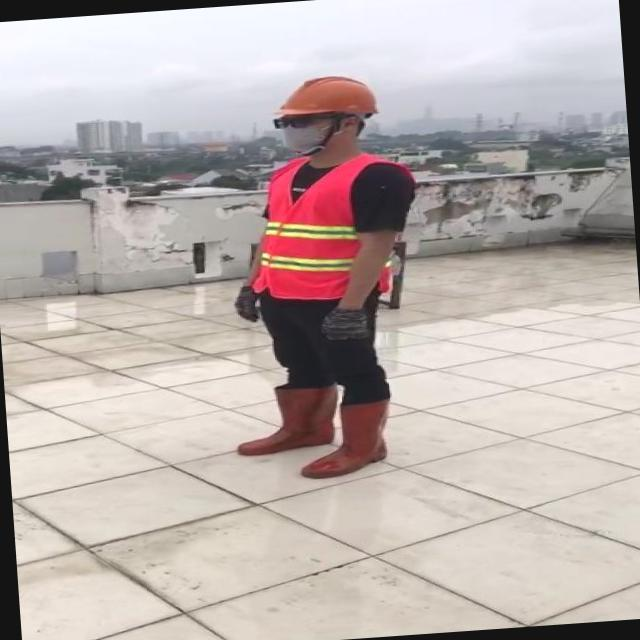boots: (296, 394, 411, 482), (225, 382, 335, 460)
gloves: (316, 306, 369, 341), (230, 286, 260, 320)
helmet: (274, 71, 386, 120)
vest: (245, 153, 421, 304)
